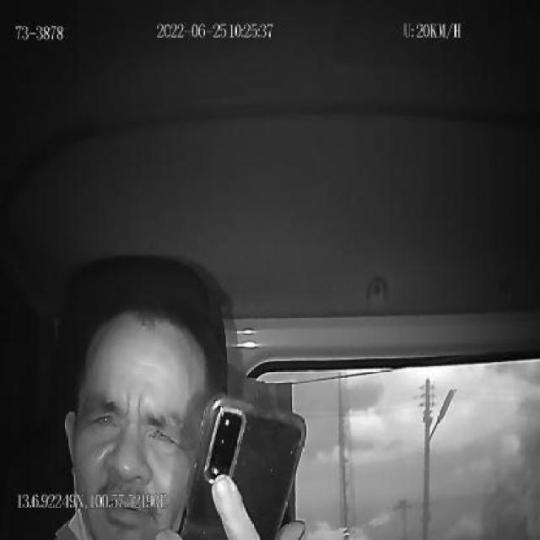phone: (181, 393, 306, 540)
